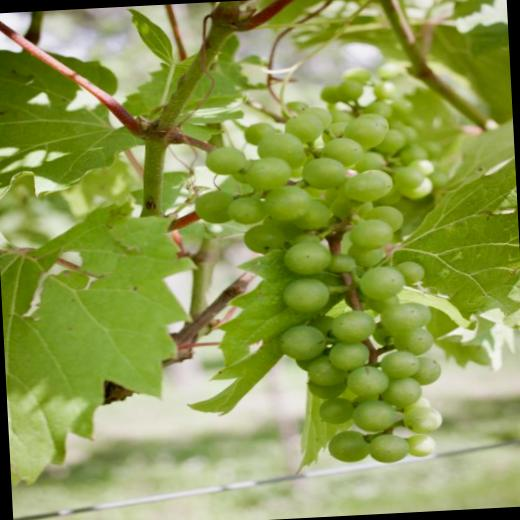Orange: (188, 63, 462, 472)
